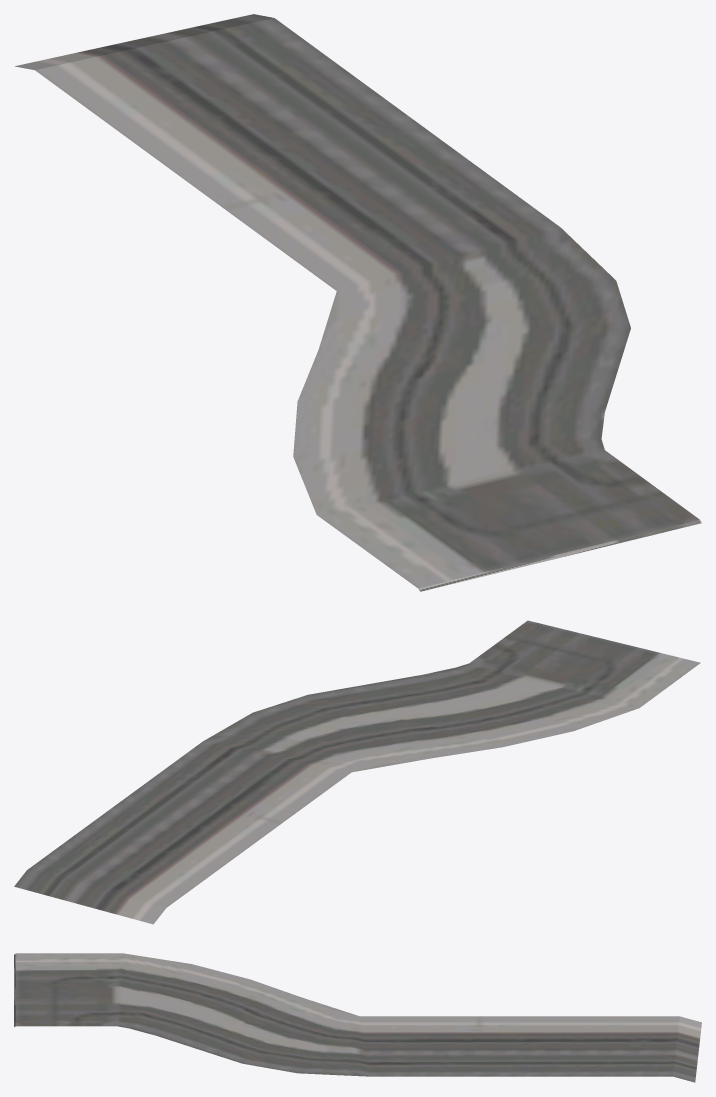
File: lodd04_sfe.obj
The picture shows the model from 3 angles, top to bottom: view 1: azimuth 30°, elevation 25°; view 2: azimuth 150°, elevation 25°; view 3: azimuth 270°, elevation 25°; orthographic projection. The views are drawn at different scales.
Visible parts, largest first — view 1: LODd04_sfe; view 2: LODd04_sfe; view 3: LODd04_sfe.
Part boxes in pixels (<box>): LODd04_sfe: <box>15,14,701,591</box>; LODd04_sfe: <box>14,620,700,924</box>; LODd04_sfe: <box>14,953,701,1082</box>.
Size of the model in its own units: 110 by 2.5 by 258.
2 materials, 2 textured.
